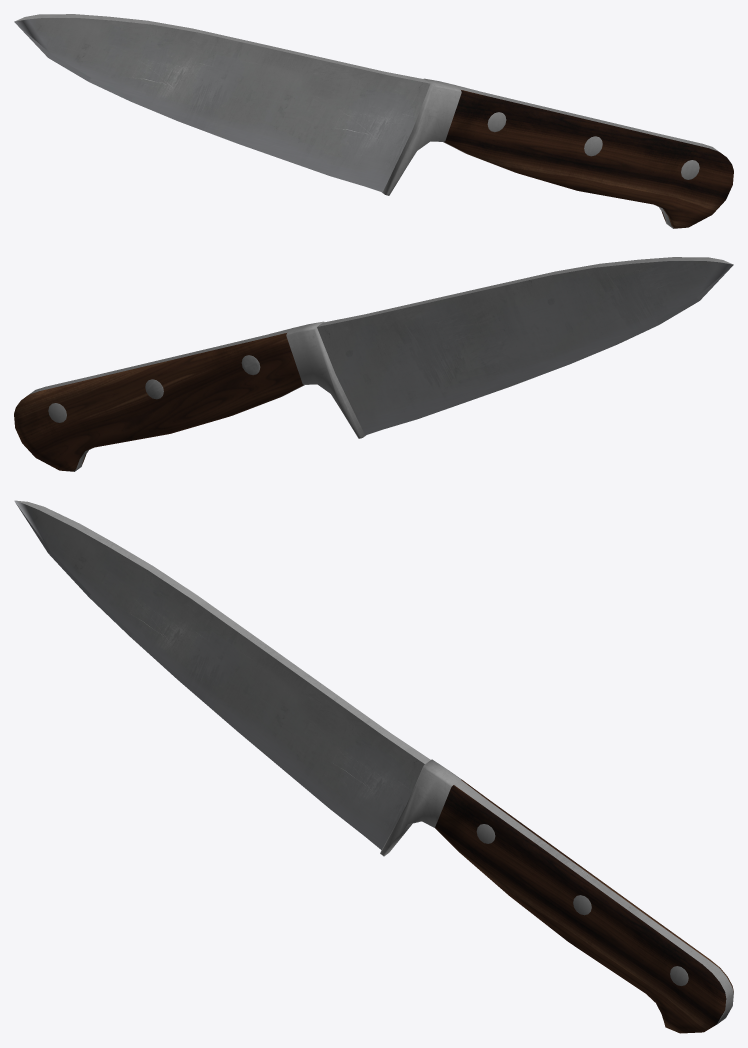
File: Knife.fbx
The picture shows the model from 3 angles, top to bottom: view 1: azimuth 30°, elevation 25°; view 2: azimuth 150°, elevation 25°; view 3: azimuth 330°, elevation 25°; orthographic projection.
Visible parts, largest first — view 1: Box003; view 2: Box003; view 3: Box003.
Boxes of the visible parts, <box> form: Box003: <box>14,14,733,228</box>; Box003: <box>14,257,733,471</box>; Box003: <box>14,500,733,1033</box>.
Size of the model in its own units: 282 by 138 by 7.73.
